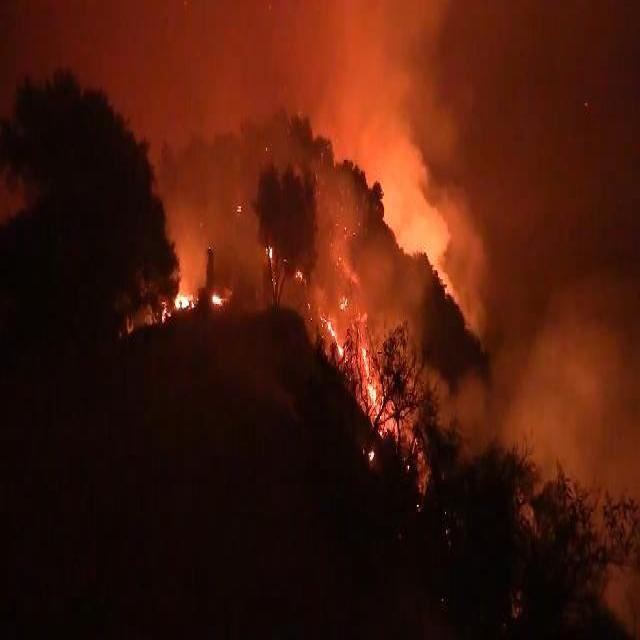Smoke: (304, 0, 488, 349), (437, 258, 640, 543)
